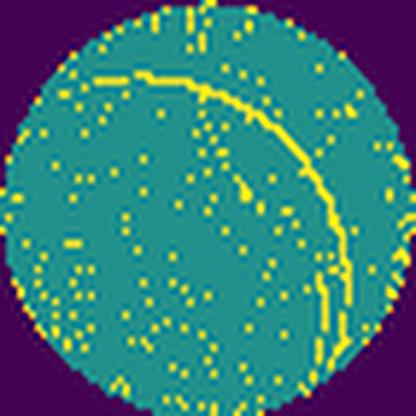Scratch: (94, 62, 355, 393)
